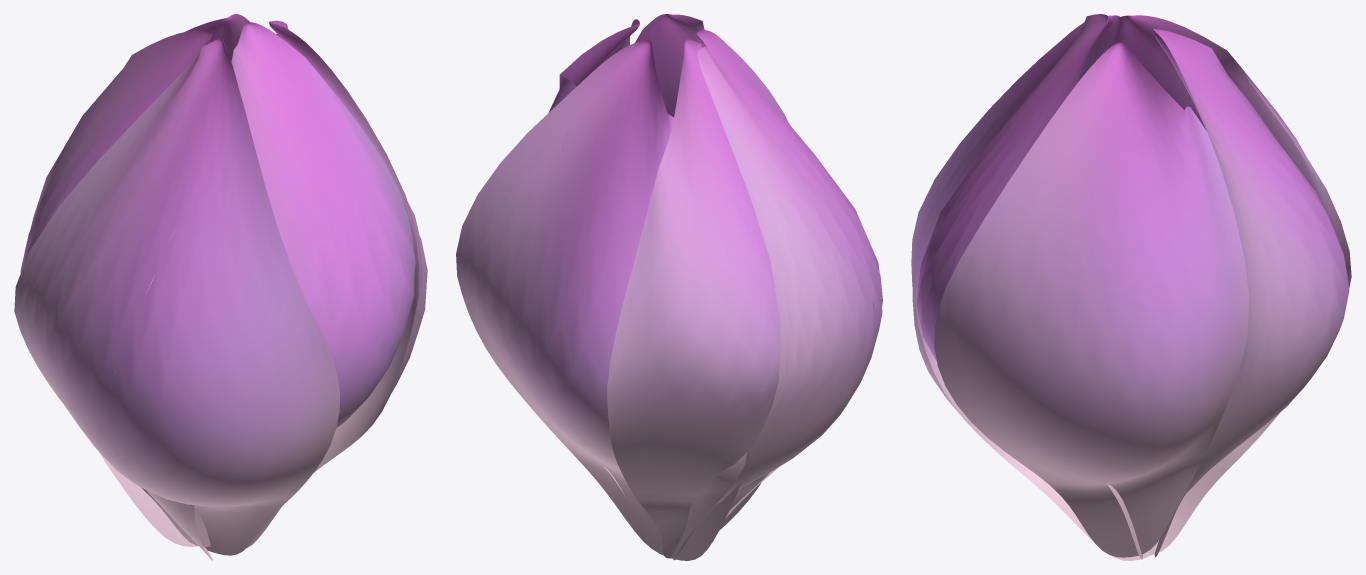
File: FlowerBud.fbx
3 views of the same model, side by side, from view 1: azimuth 30°, elevation 25°; view 2: azimuth 150°, elevation 25°; view 3: azimuth 270°, elevation 25° (orthographic). The views are drawn at different scales.
Parts seen in each view (by area): view 1: Cylinder.017; view 2: Cylinder.017; view 3: Cylinder.017.
Boxes of the visible parts, bbox=[...] form: Cylinder.017: bbox=[14, 14, 427, 560]; Cylinder.017: bbox=[456, 14, 882, 560]; Cylinder.017: bbox=[911, 14, 1351, 560].
Bounding box in the file's own units: 4.96 × 6.85 × 4.65.
